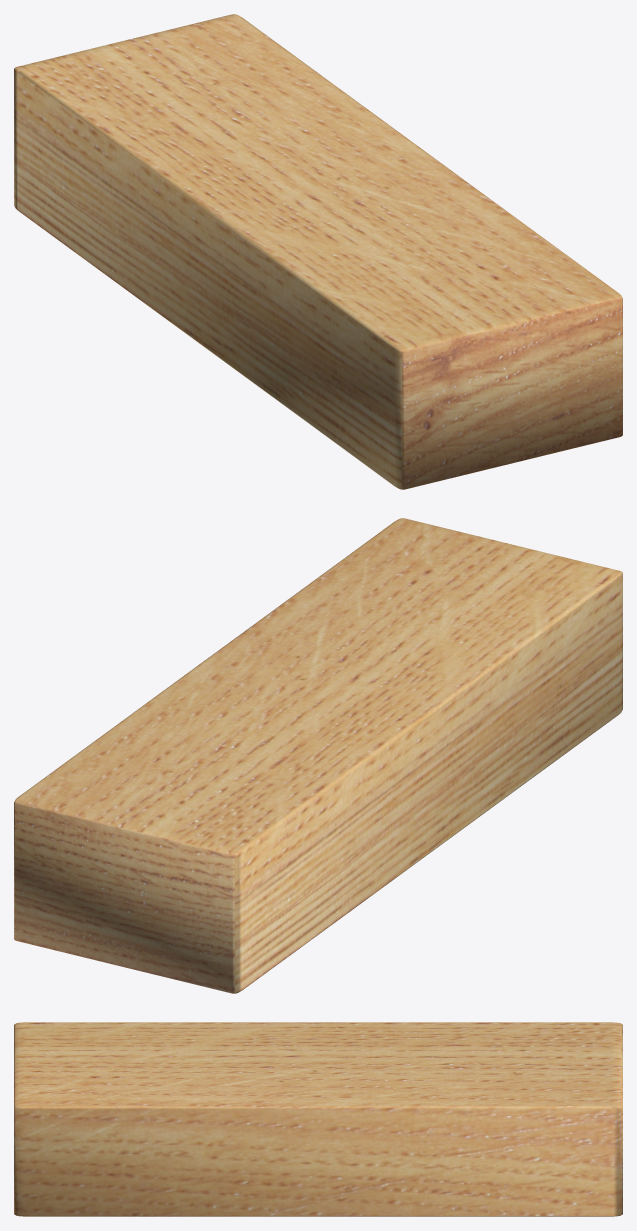
The model's file is wood block of unknown brand.fbx.
3 views of the same model, one above another, from view 1: azimuth 30°, elevation 25°; view 2: azimuth 150°, elevation 25°; view 3: azimuth 270°, elevation 25° (orthographic). The views are drawn at different scales.
Visible parts, largest first — view 1: Cube; view 2: Cube; view 3: Cube.
Part boxes in pixels (bbox=[...]): Cube: bbox=[14, 14, 622, 489]; Cube: bbox=[14, 518, 622, 993]; Cube: bbox=[14, 1022, 622, 1216].
Bounding box in the file's own units: 200 × 120 × 600.
